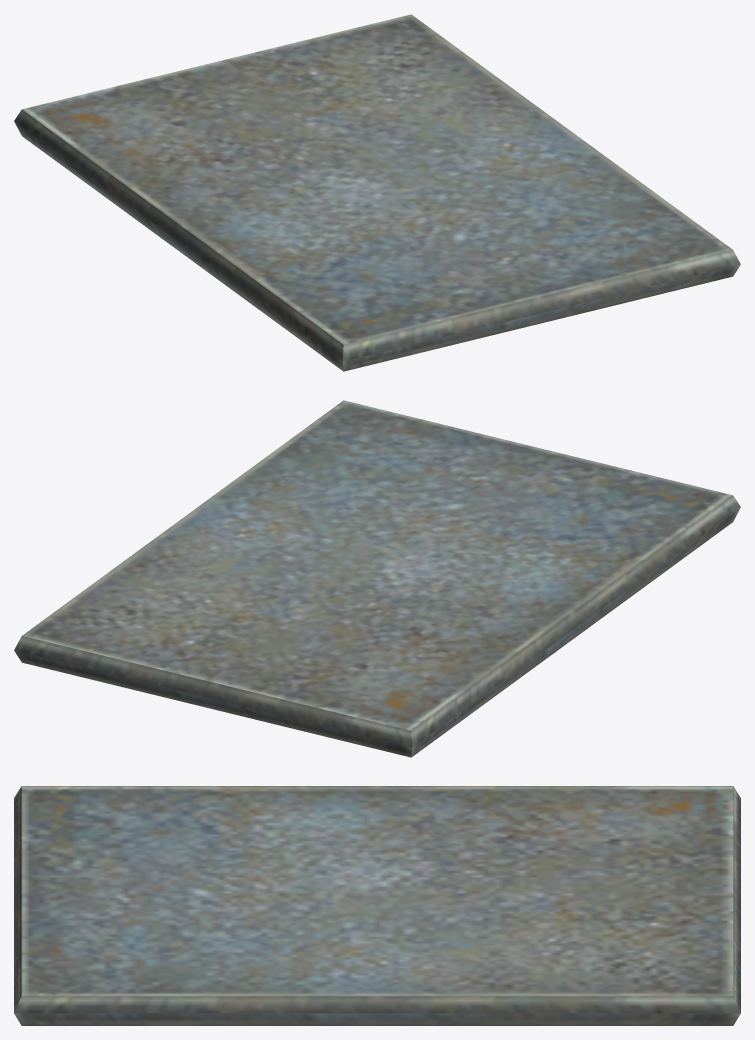
The model's file is scanningroom_floor_marble01.dae.
3 views of the same model, one above another, from view 1: azimuth 30°, elevation 25°; view 2: azimuth 150°, elevation 25°; view 3: azimuth 270°, elevation 25° (orthographic). The views are drawn at different scales.
Visible parts, largest first — view 1: polySurface2; view 2: polySurface2; view 3: polySurface2.
Boxes of the visible parts, x1,y1,x2,y2 form: polySurface2: [14, 14, 740, 371]; polySurface2: [14, 400, 740, 757]; polySurface2: [14, 786, 740, 1025].
Size of the model in its own units: 0.1846 by 0.0118 by 0.2637.
